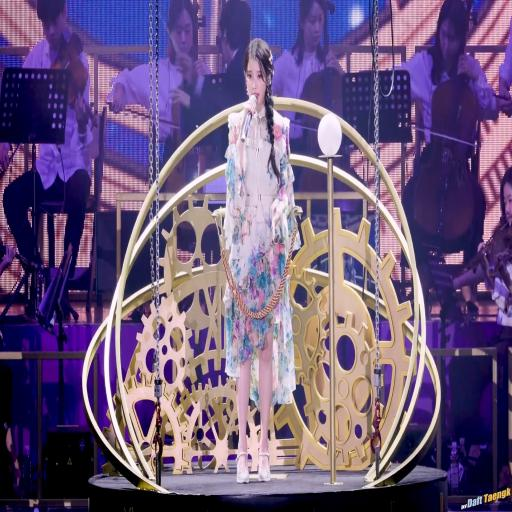IU: (244, 39, 275, 107)
